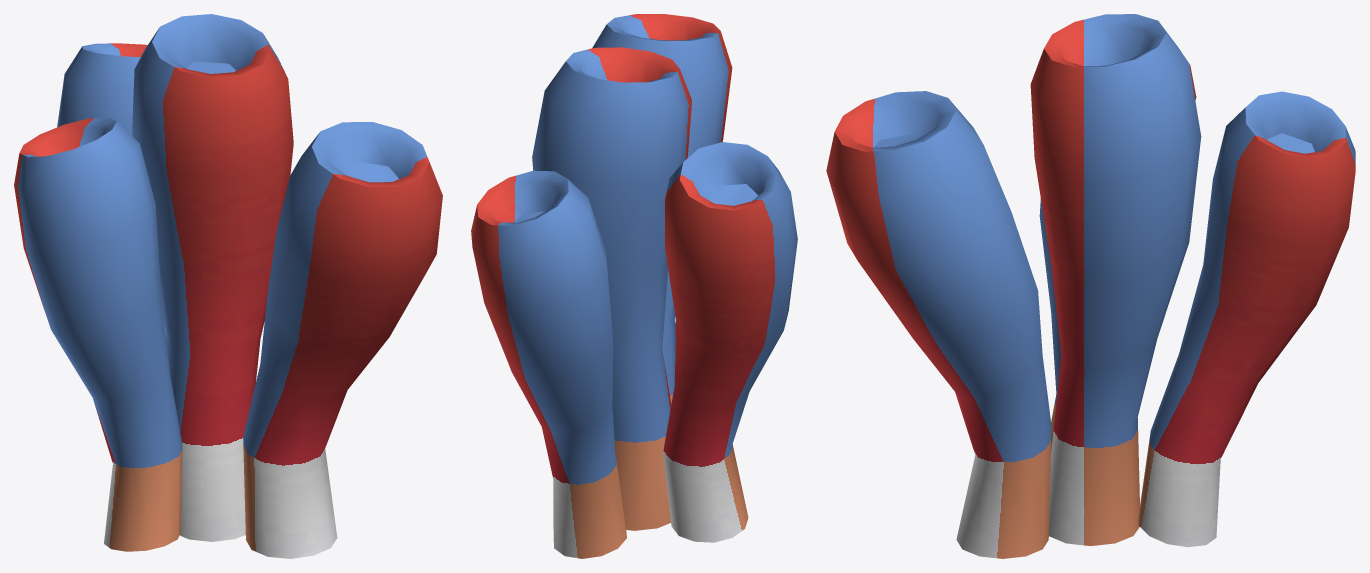
Rendered from D_CoralReef.028.glb.
3 renders of one model, left to right at view 1: azimuth 30°, elevation 25°; view 2: azimuth 150°, elevation 25°; view 3: azimuth 270°, elevation 25°, orthographic. The views are drawn at different scales.
Parts seen in each view (by area): view 1: D_CoralReef.028; view 2: D_CoralReef.028; view 3: D_CoralReef.028.
Boxes of the visible parts, x1,y1,x2,y2 form: D_CoralReef.028: (14, 14, 442, 558); D_CoralReef.028: (471, 14, 797, 558); D_CoralReef.028: (826, 14, 1355, 558).
Bounding box in the file's own units: 0.144 × 0.2148 × 0.2055.
1 material, 1 textured.
